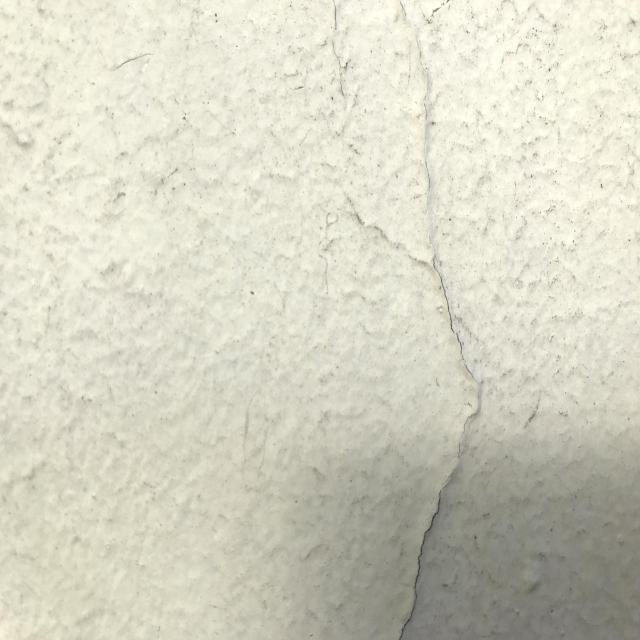SurfaceCrack: (313, 0, 506, 639)
